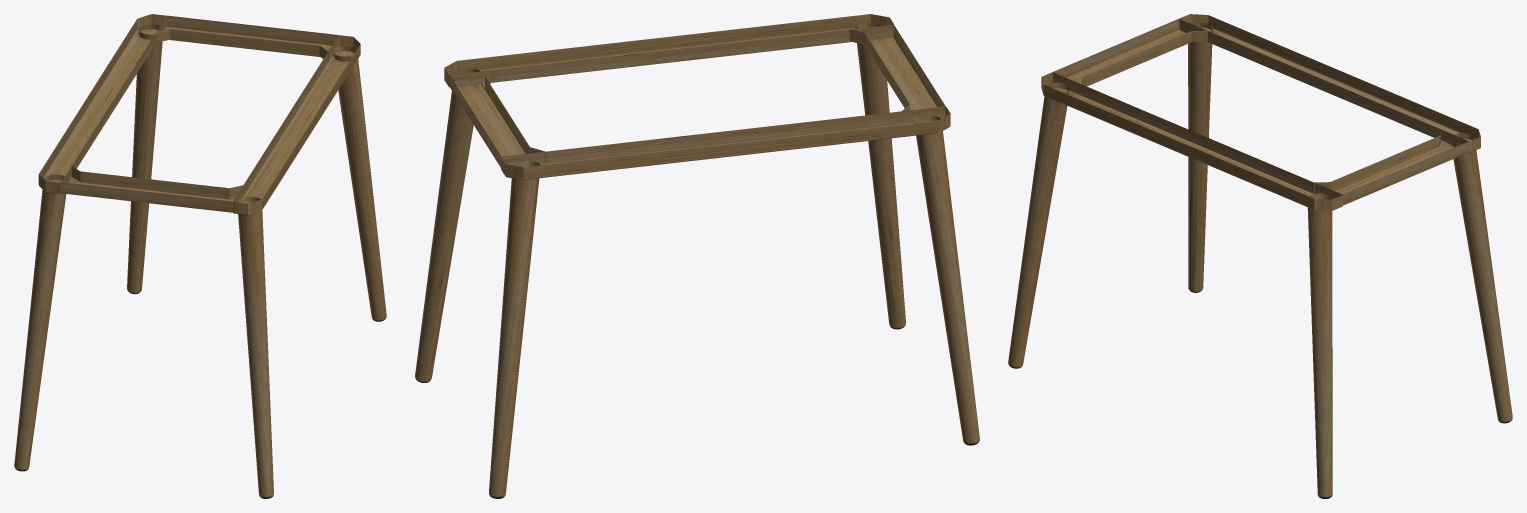
The model's file is diningtable_0101_leg.glb.
The picture shows the model from 3 angles, left to right: view 1: azimuth 30°, elevation 25°; view 2: azimuth 150°, elevation 25°; view 3: azimuth 270°, elevation 25°; orthographic projection. The views are drawn at different scales.
Visible parts, largest first — view 1: diningtable_0101_leg; view 2: diningtable_0101_leg; view 3: diningtable_0101_leg.
Boxes of the visible parts, bbox=[...] form: diningtable_0101_leg: bbox=[14, 14, 386, 498]; diningtable_0101_leg: bbox=[415, 14, 979, 498]; diningtable_0101_leg: bbox=[1008, 14, 1512, 498].
Size of the model in its own units: 1.14 by 0.7197 by 1.14.
Materials: 1 (1 with a texture image).
